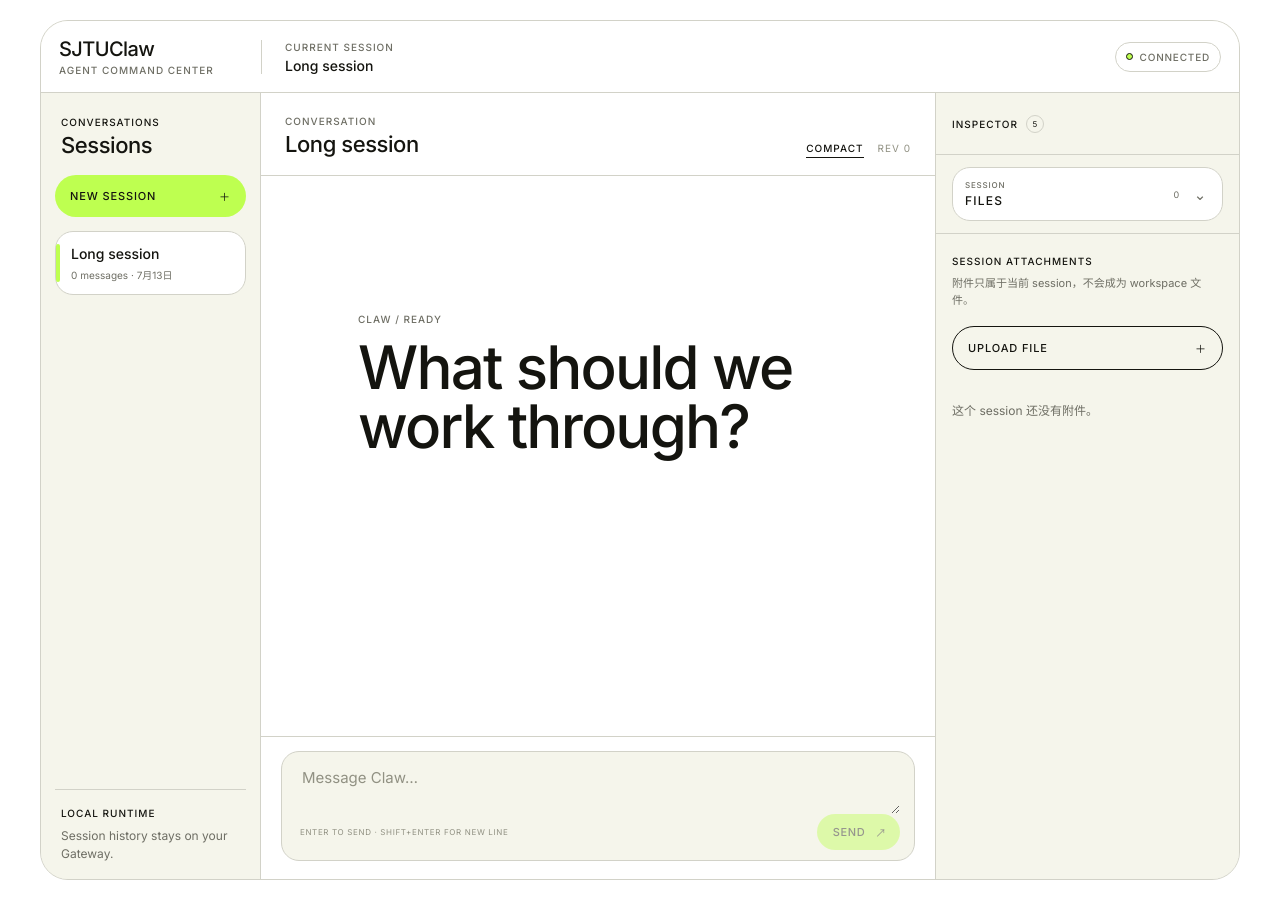
Test case: App session lifecycle › compacts the active session and renders the refreshed revision
Expected: the heading "Long session" is shown, [285,132,419,158]
Click the button "COMPACT". click: coordinates (835, 148)
box: [806,139,864,158]
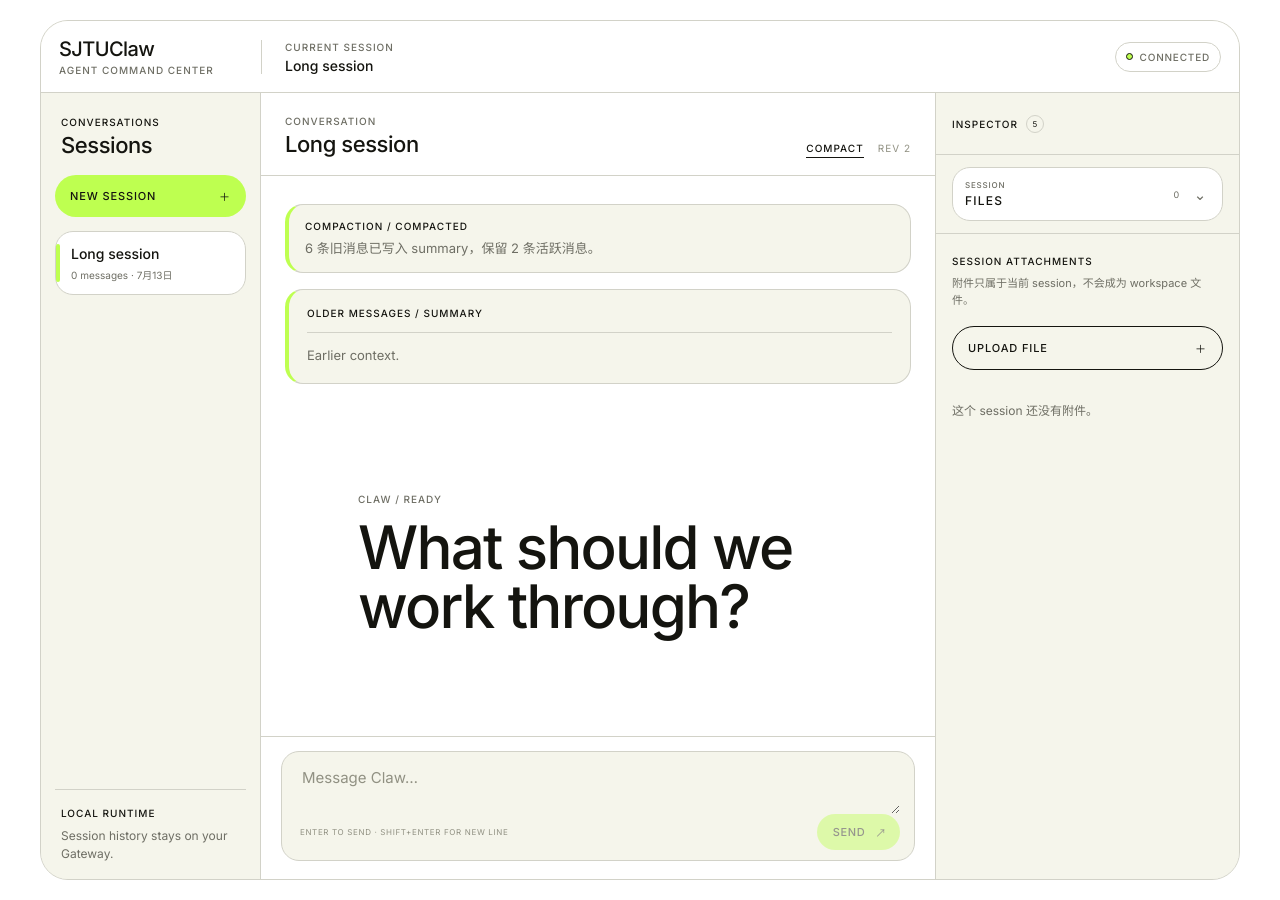
Result: the text "REV 2" is shown at [878,142,911,154]
Result: the message shows "6 条旧消息已写入 summary，保留 2 条活跃消息。" at [305,240,601,256]
